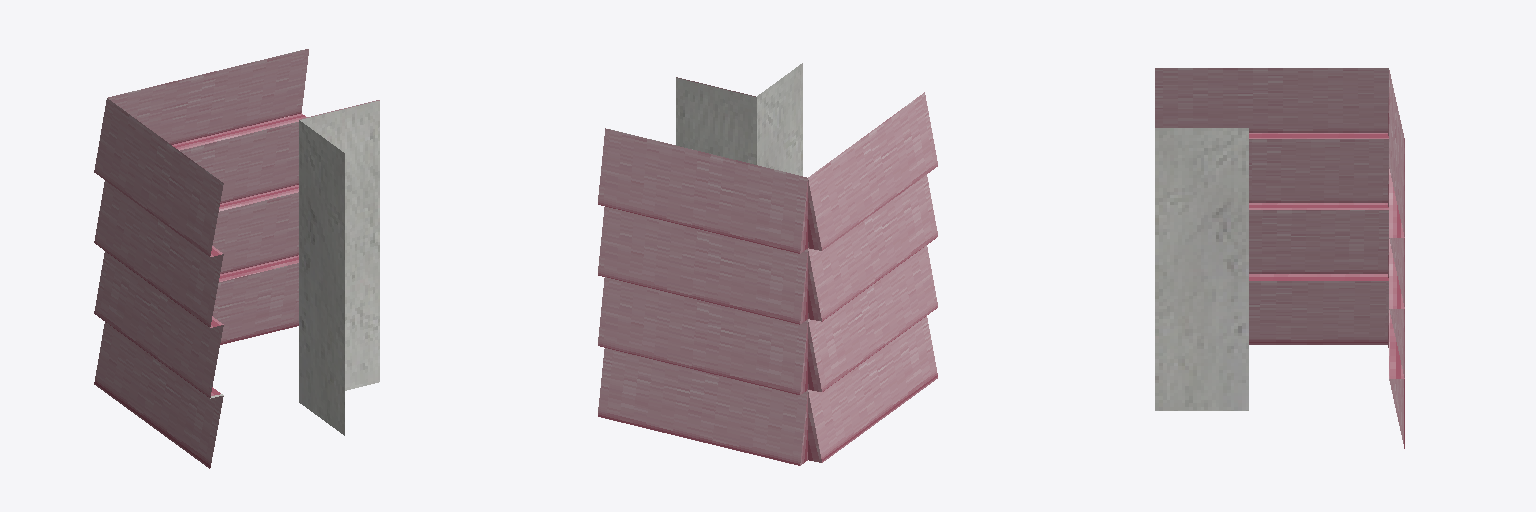
The picture shows the model from 3 angles: view 1: azimuth 30°, elevation 25°; view 2: azimuth 150°, elevation 25°; view 3: azimuth 270°, elevation 25°; orthographic projection.
Size of the model in its own units: 1.6 by 2 by 1.6.
Materials: 1 (1 with a texture image).